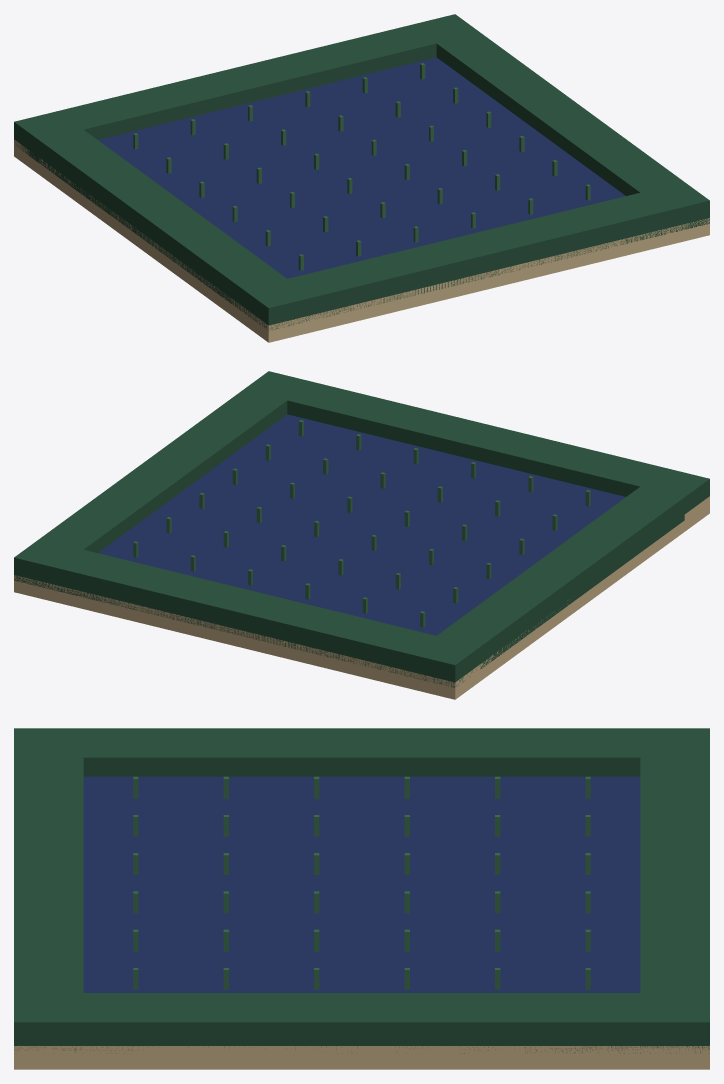
The model's file is terrain_tile_paddy.glb.
3 views of the same model, one above another, from view 1: azimuth 30°, elevation 25°; view 2: azimuth 150°, elevation 25°; view 3: azimuth 270°, elevation 25° (orthographic). The views are drawn at different scales.
Visible parts, largest first — view 1: terrain_tile_paddy; view 2: terrain_tile_paddy; view 3: terrain_tile_paddy.
Boxes of the visible parts, box(x1,y1,x2,y2) form: terrain_tile_paddy: box(14, 14, 709, 342); terrain_tile_paddy: box(14, 371, 709, 699); terrain_tile_paddy: box(14, 728, 709, 1069).
Size of the model in its own units: 8 by 0.625 by 8.
